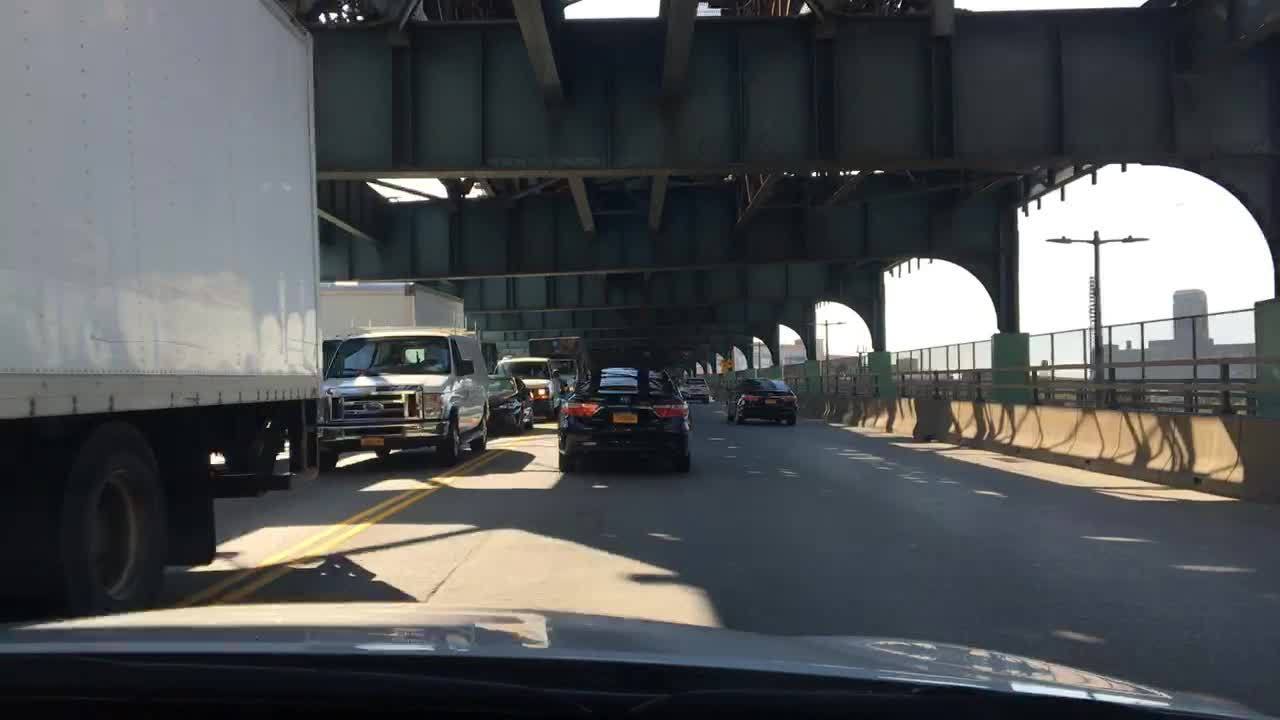car: (319, 327, 489, 470), (558, 363, 691, 474), (494, 356, 561, 422), (725, 375, 796, 427), (487, 373, 536, 436), (679, 376, 711, 404)
traffic sign: (718, 359, 733, 372)
truck: (0, 0, 321, 616), (318, 280, 465, 336), (526, 336, 592, 396)
